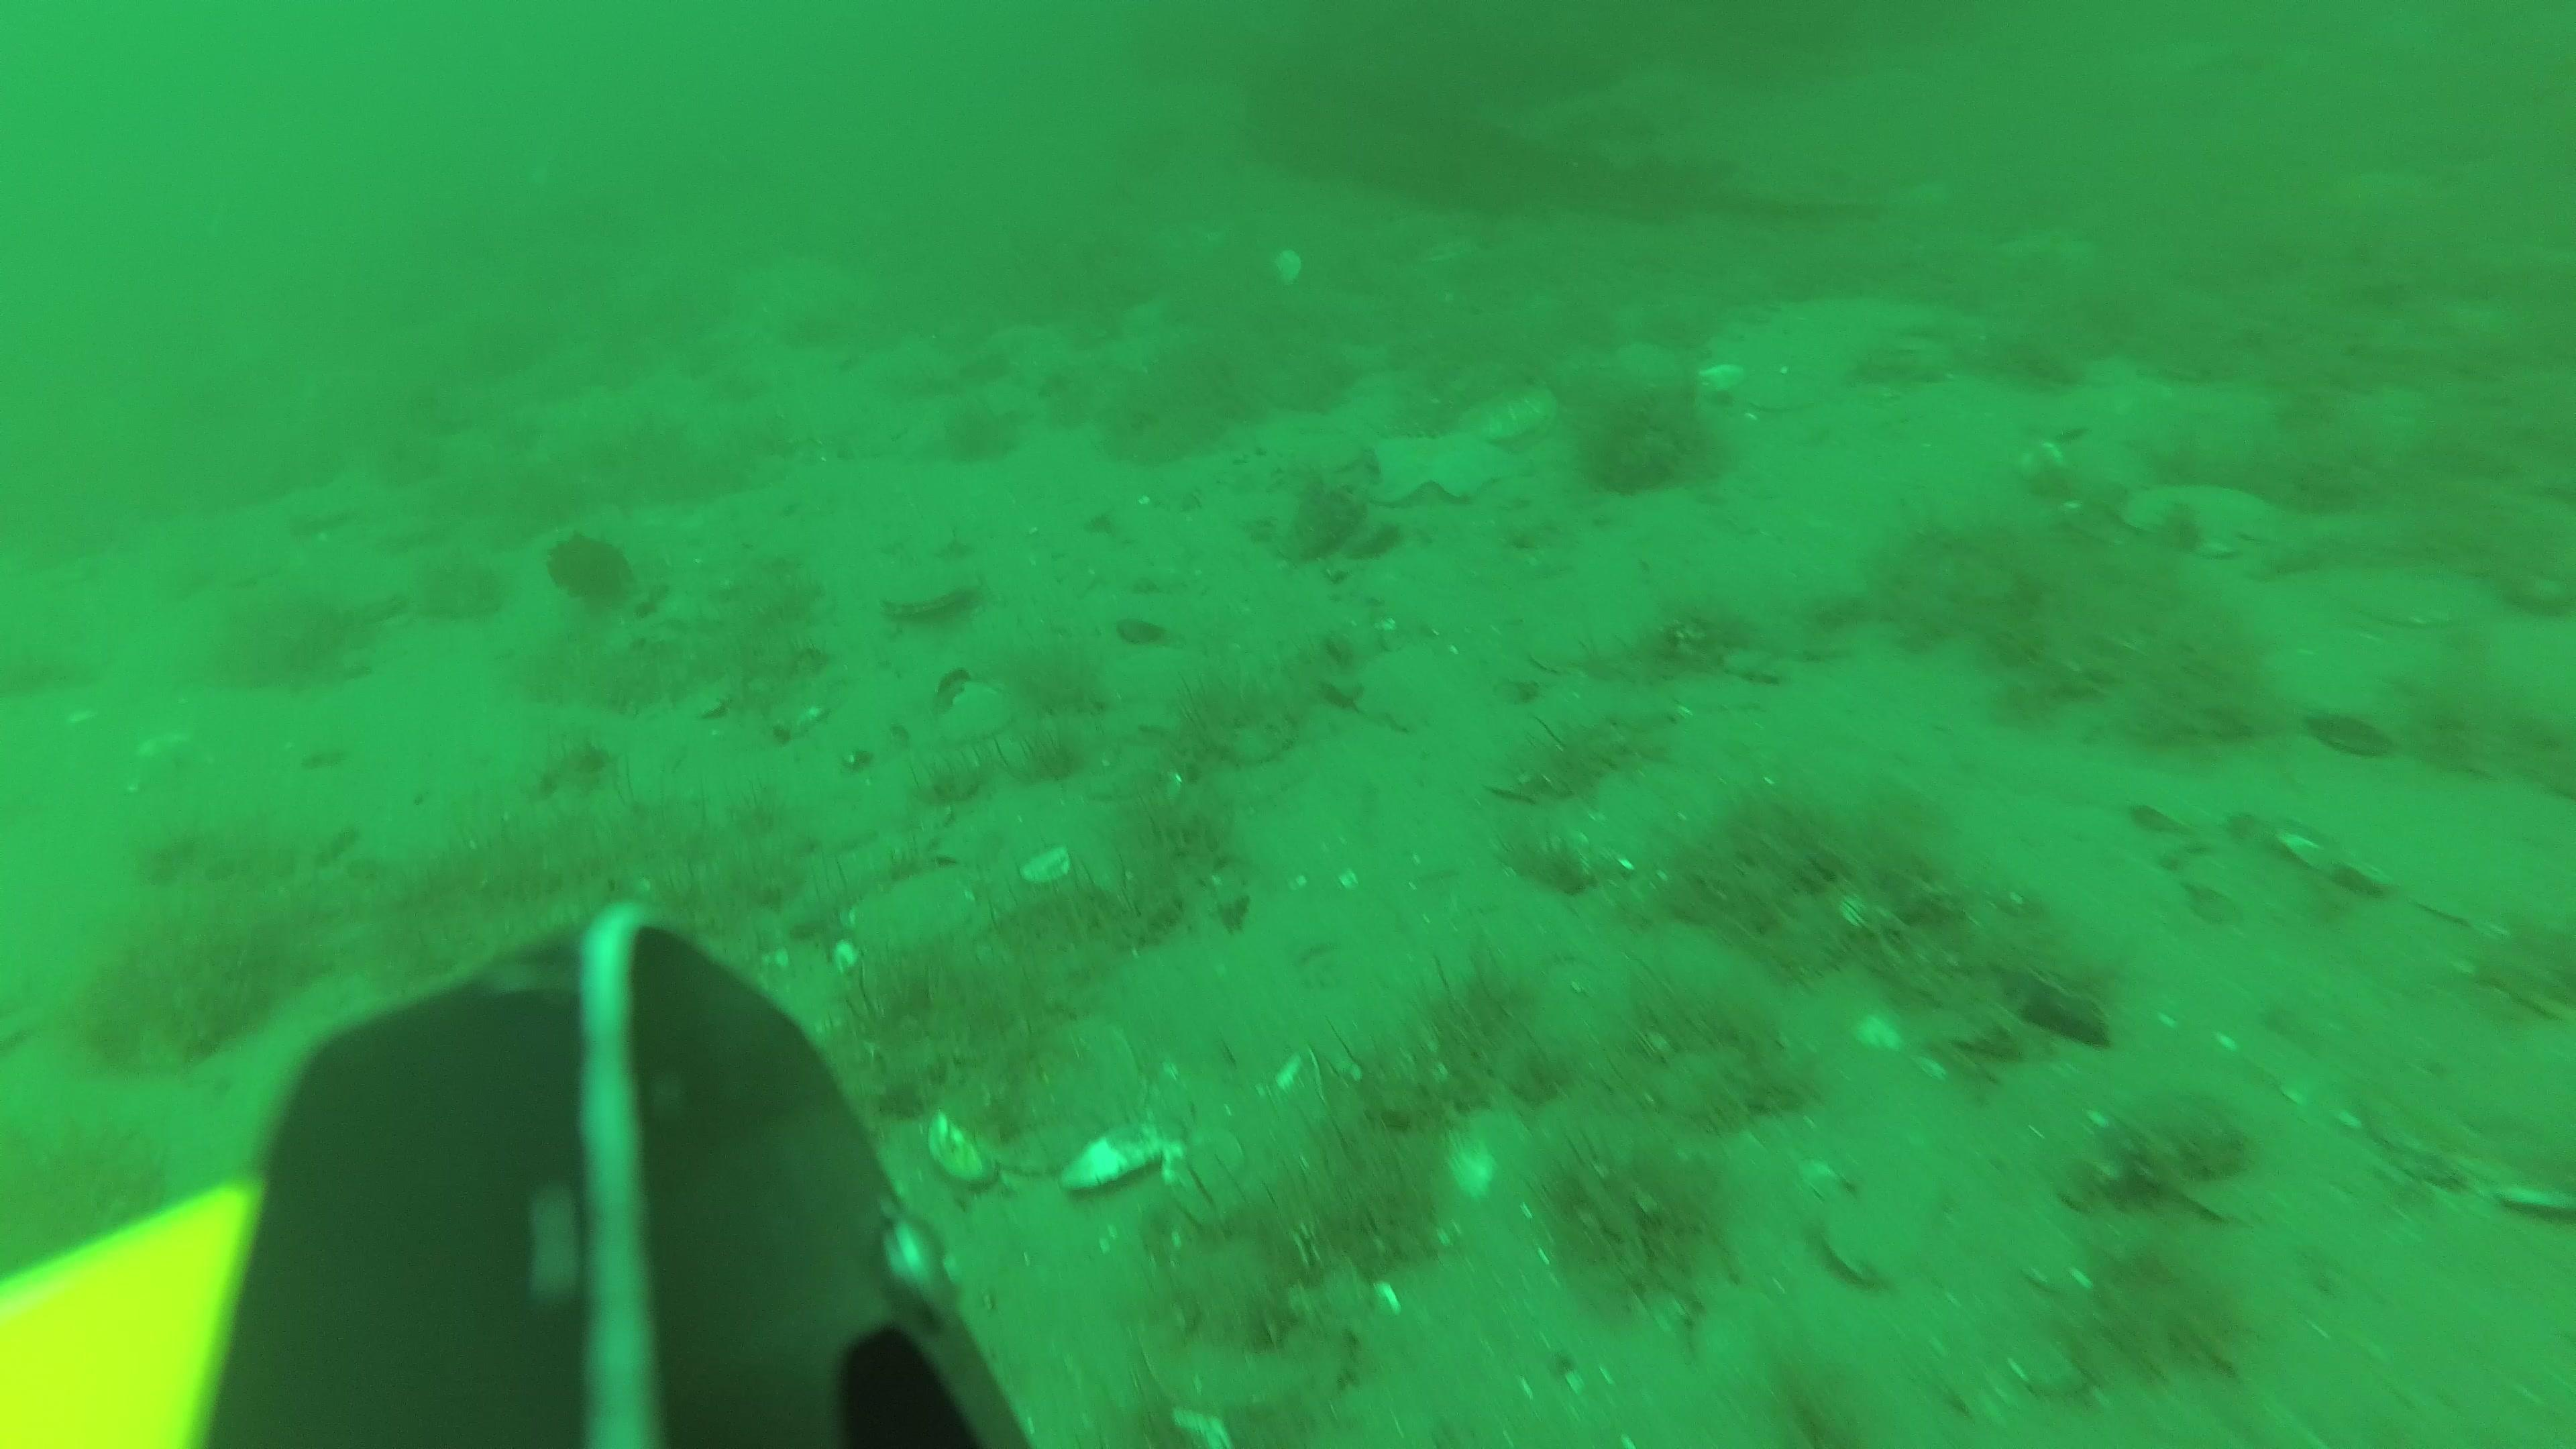scallop: (943, 1007, 1146, 1180), (853, 872, 996, 973), (2121, 474, 2275, 556), (885, 559, 985, 616), (1168, 1127, 1242, 1196), (1497, 377, 1566, 441), (1267, 244, 1292, 280)
starfish: (1369, 423, 1514, 504)
